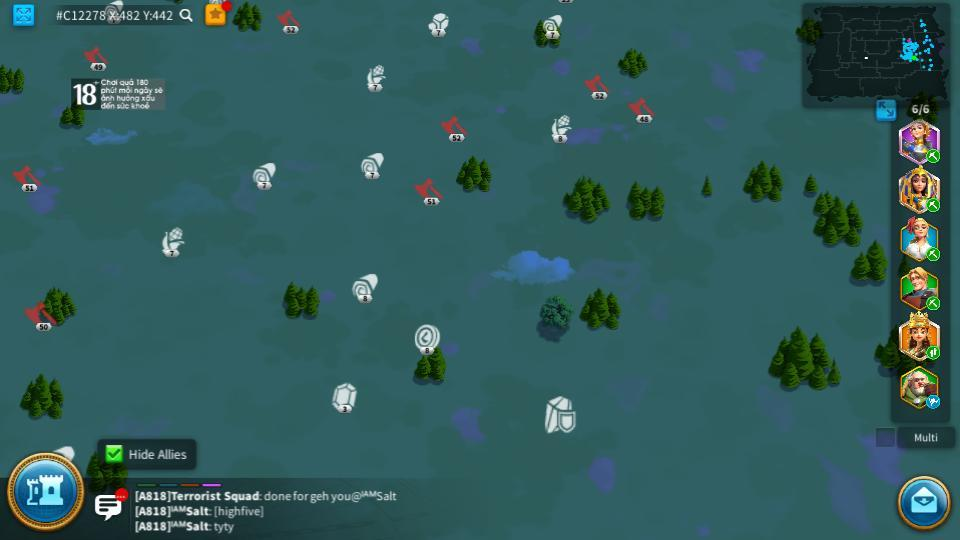gem-z-out: (332, 383, 358, 411)
march_farming: (923, 197, 940, 212), (924, 247, 939, 261), (925, 149, 941, 162), (925, 297, 941, 310)
march_idle: (925, 396, 942, 408)
march_marching: (925, 347, 942, 359)
